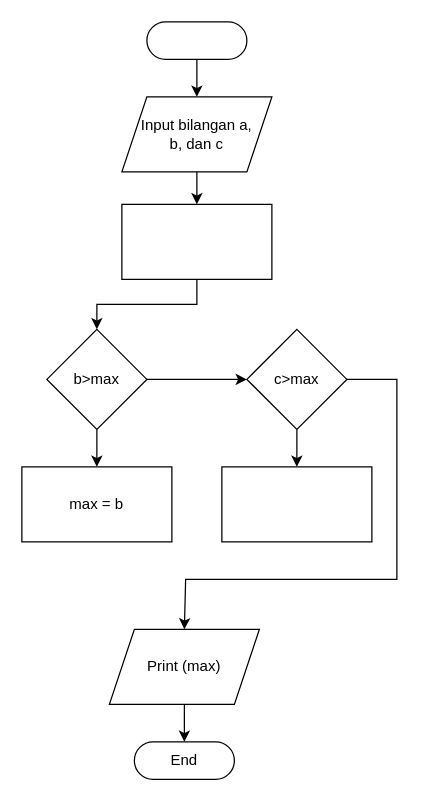
Some shapes in this 429 by 801 pixel diagram are drawn without their labels. Here are the shapes that lost their labels. From the top down, the centre of each, then its label:
point (196, 40): Start
point (196, 241): max = a
point (296, 504): max = c
